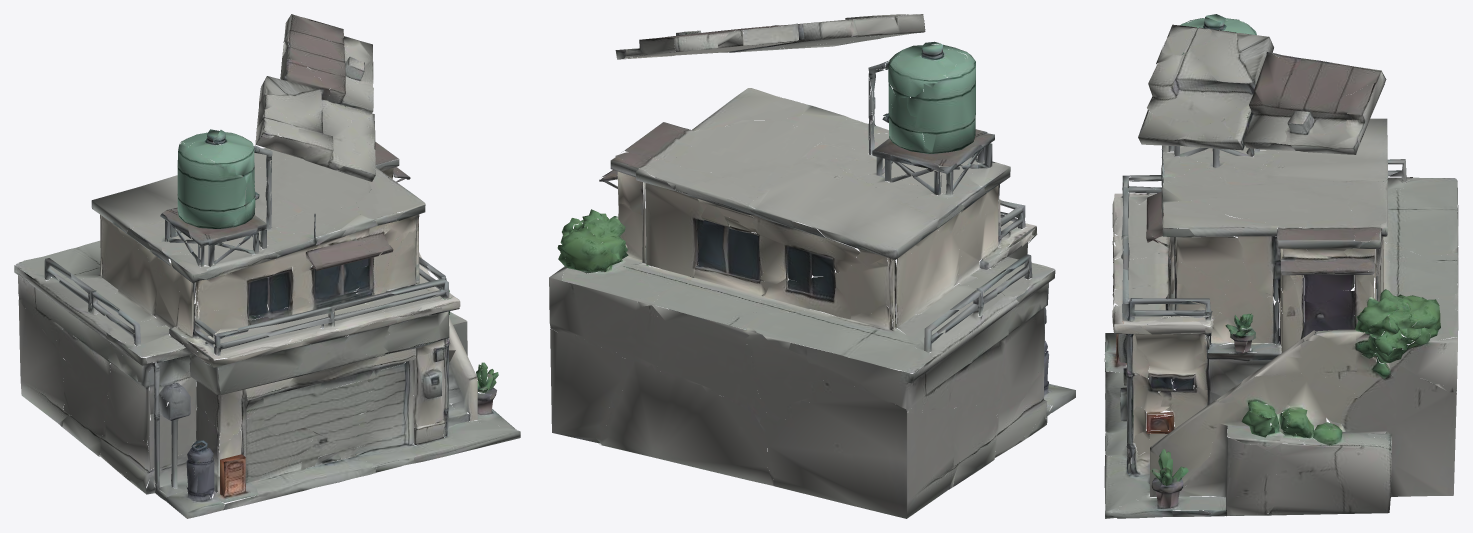
File: building11.glb
The picture shows the model from 3 angles, left to right: view 1: azimuth 30°, elevation 25°; view 2: azimuth 150°, elevation 25°; view 3: azimuth 270°, elevation 25°; orthographic projection. The views are drawn at different scales.
Visible parts, largest first — view 1: tripo_node_f6dda5ee-1e1c-431d-a8e3-0de5a786beb5; view 2: tripo_node_f6dda5ee-1e1c-431d-a8e3-0de5a786beb5; view 3: tripo_node_f6dda5ee-1e1c-431d-a8e3-0de5a786beb5.
Boxes of the visible parts, x1,y1,x2,y2 form: tripo_node_f6dda5ee-1e1c-431d-a8e3-0de5a786beb5: [14, 14, 520, 518]; tripo_node_f6dda5ee-1e1c-431d-a8e3-0de5a786beb5: [549, 14, 1075, 518]; tripo_node_f6dda5ee-1e1c-431d-a8e3-0de5a786beb5: [1104, 14, 1458, 518].
Size of the model in its own units: 0.9999 by 0.9662 by 0.7883.
1 material, 1 textured.
